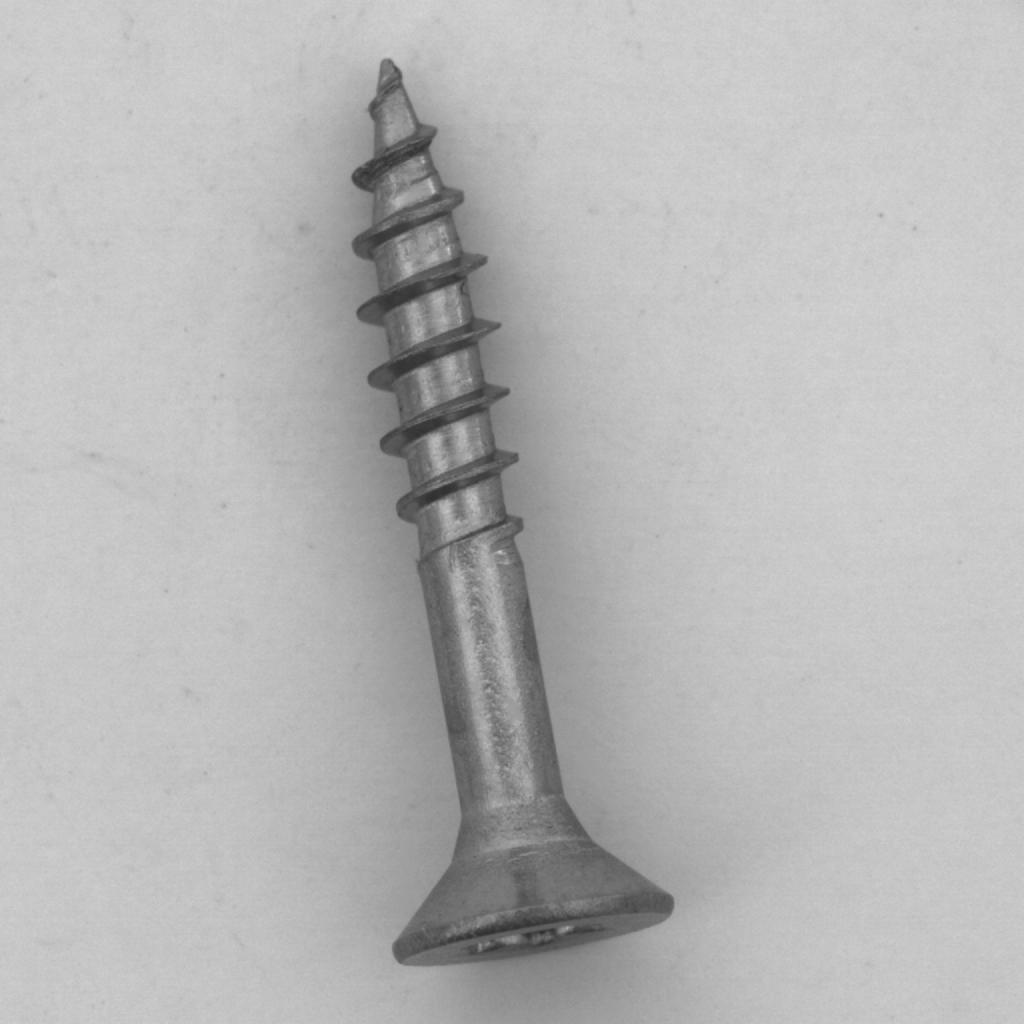good: (322, 28, 685, 988)
